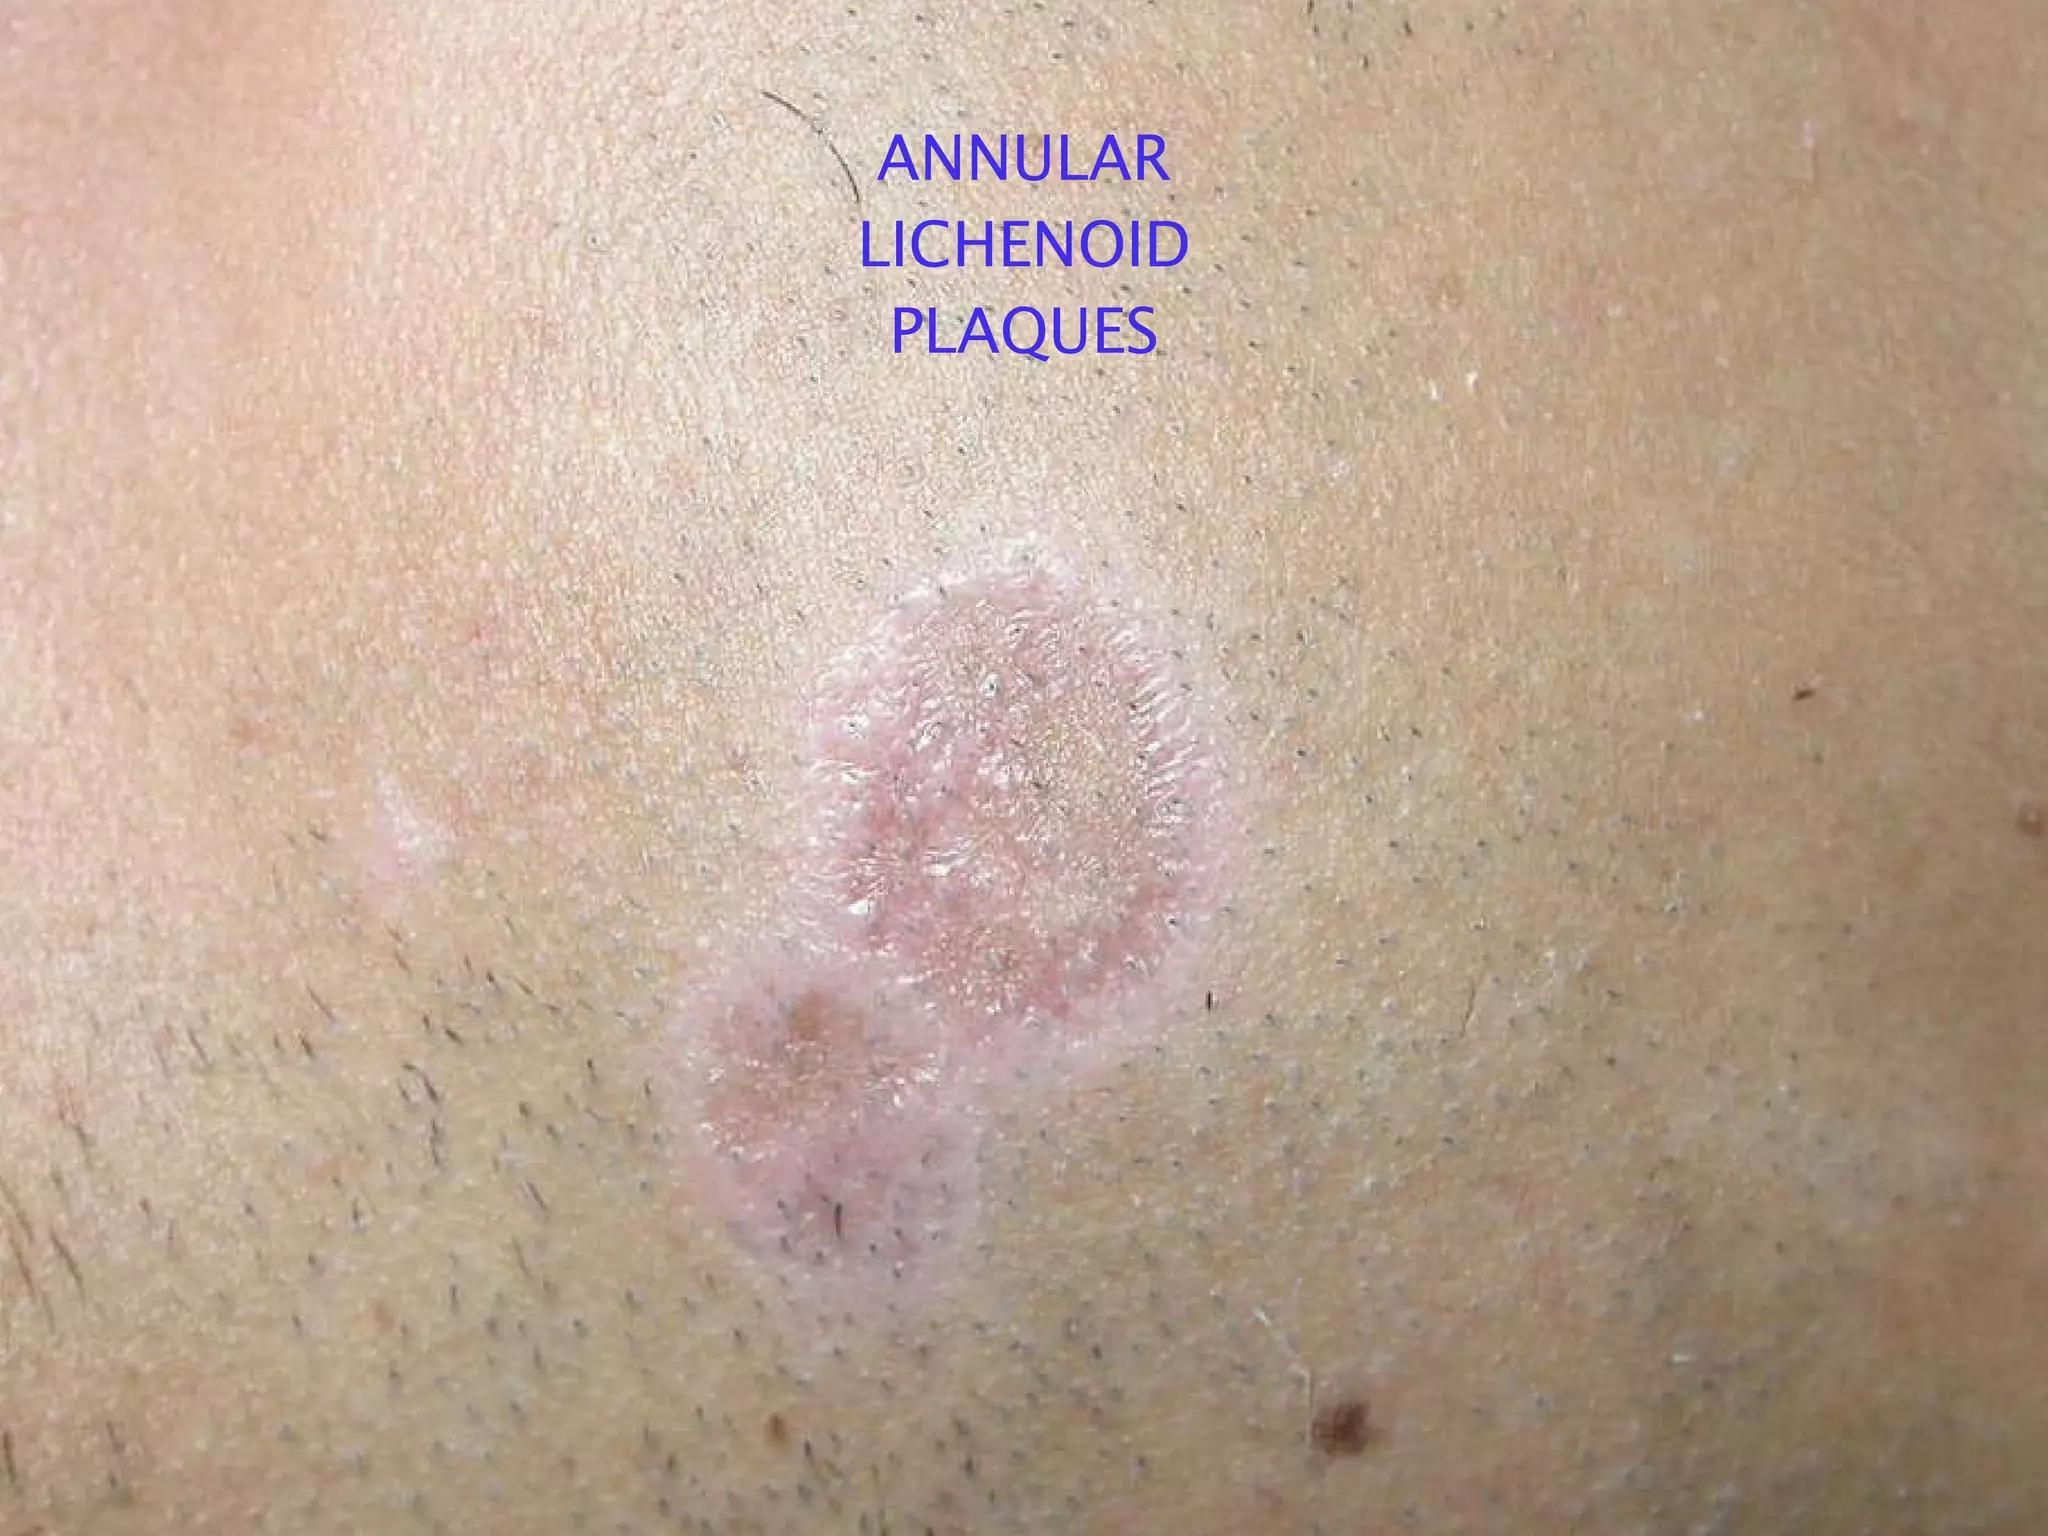annular lichen planus: (481, 495, 1458, 1320)
